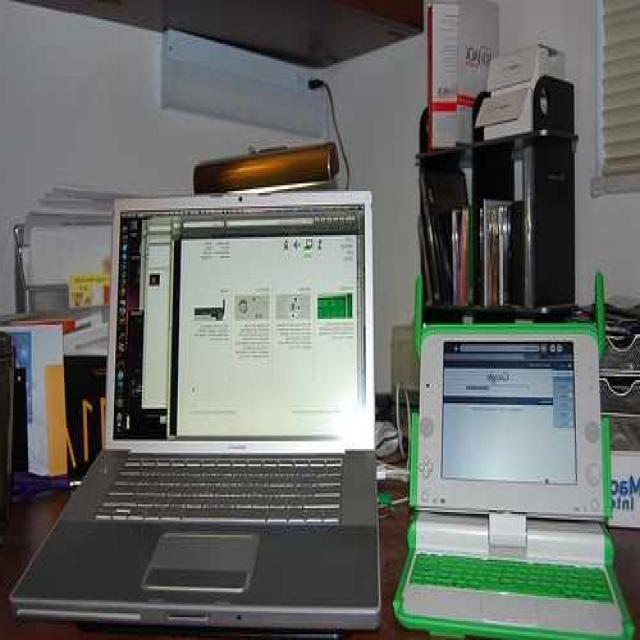laptop: (12, 192, 380, 636), (392, 331, 614, 633)
